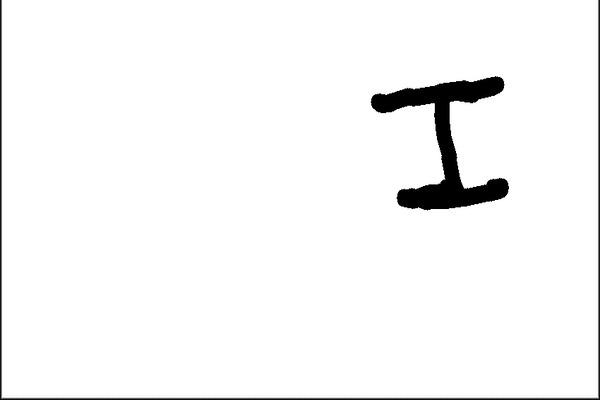i: (363, 71, 519, 218)
